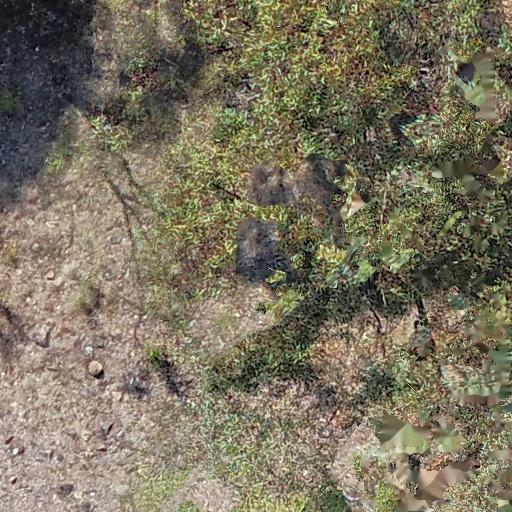stone: (28, 325, 50, 347), (91, 362, 104, 377), (4, 433, 14, 446), (30, 243, 42, 252), (95, 444, 108, 452), (46, 270, 56, 280), (9, 476, 18, 485), (96, 341, 106, 349)
